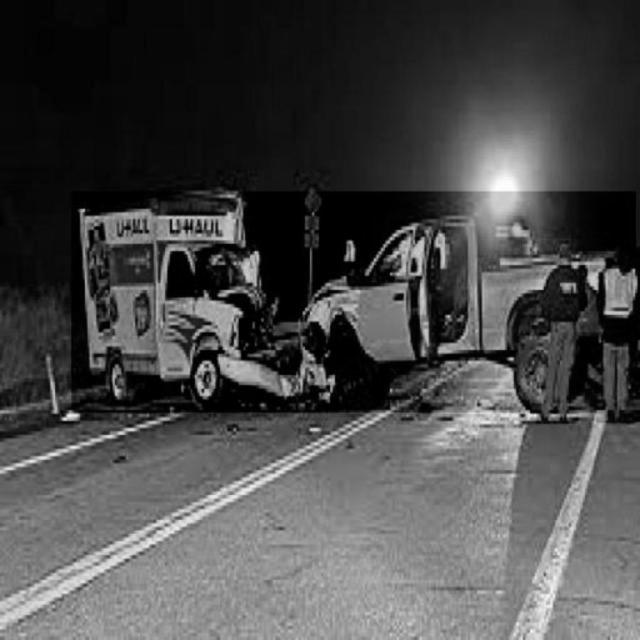accident: (71, 192, 635, 413)
person: (537, 239, 579, 424), (596, 248, 640, 423)
